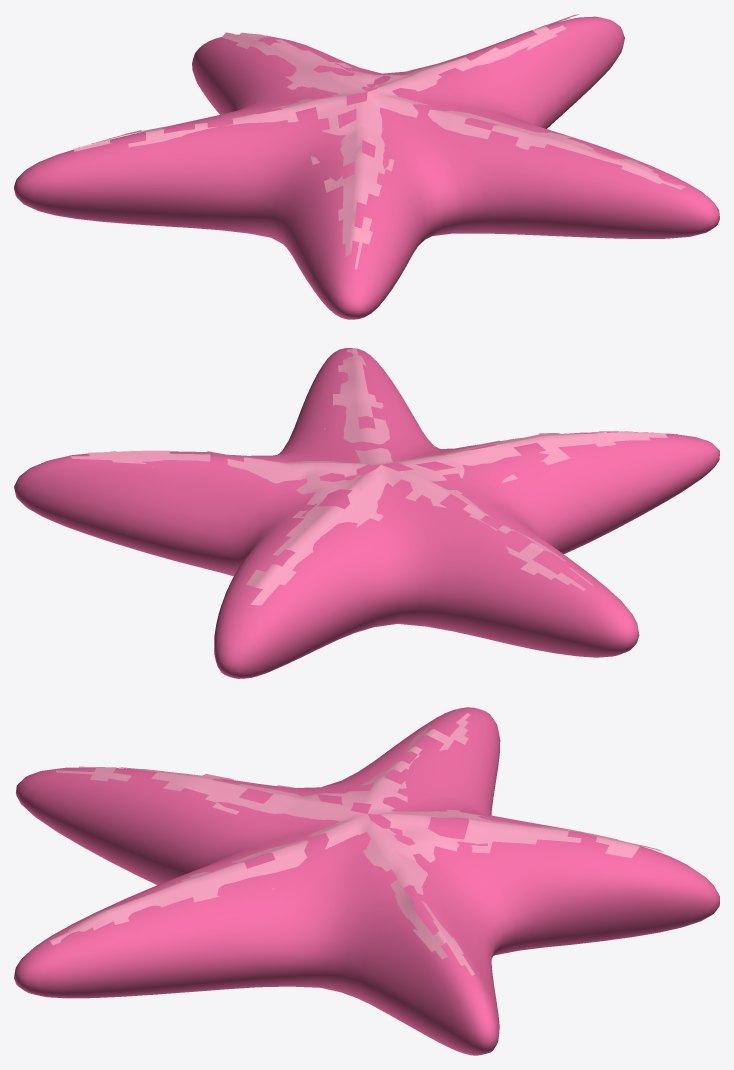
Rendered from LowpolyStarfish.fbx.
3 views of the same model, one above another, from view 1: azimuth 30°, elevation 25°; view 2: azimuth 150°, elevation 25°; view 3: azimuth 270°, elevation 25° (orthographic). The views are drawn at different scales.
Visible parts, largest first — view 1: Starfish_4, Starfish_2; view 2: Starfish_4, Starfish_2; view 3: Starfish_4, Starfish_2.
Boxes of the visible parts, left/top/right/bottom form: Starfish_4: left=14, top=16, right=719, bottom=319; Starfish_2: left=74, top=14, right=686, bottom=269; Starfish_4: left=14, top=348, right=719, bottom=678; Starfish_2: left=70, top=348, right=677, bottom=605; Starfish_4: left=14, top=707, right=719, bottom=1055; Starfish_2: left=49, top=709, right=663, bottom=975.
Bounding box in the file's own units: 433 × 79.28 × 394.
